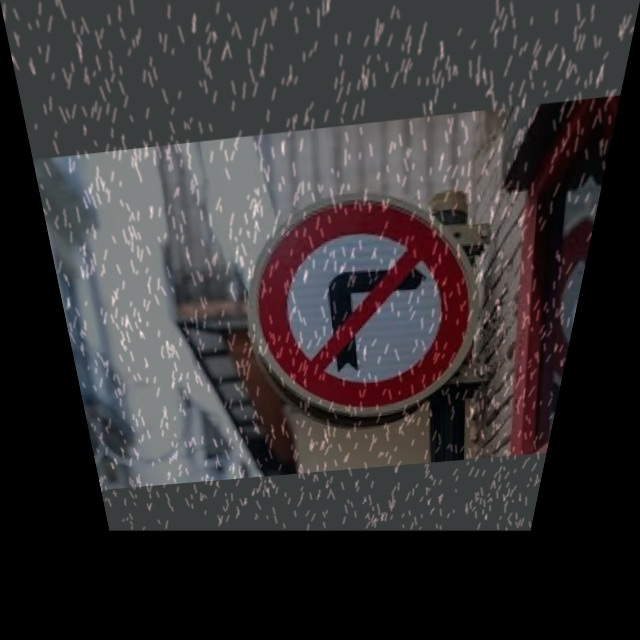Right_Turn_Prohibited: (234, 182, 499, 433)
